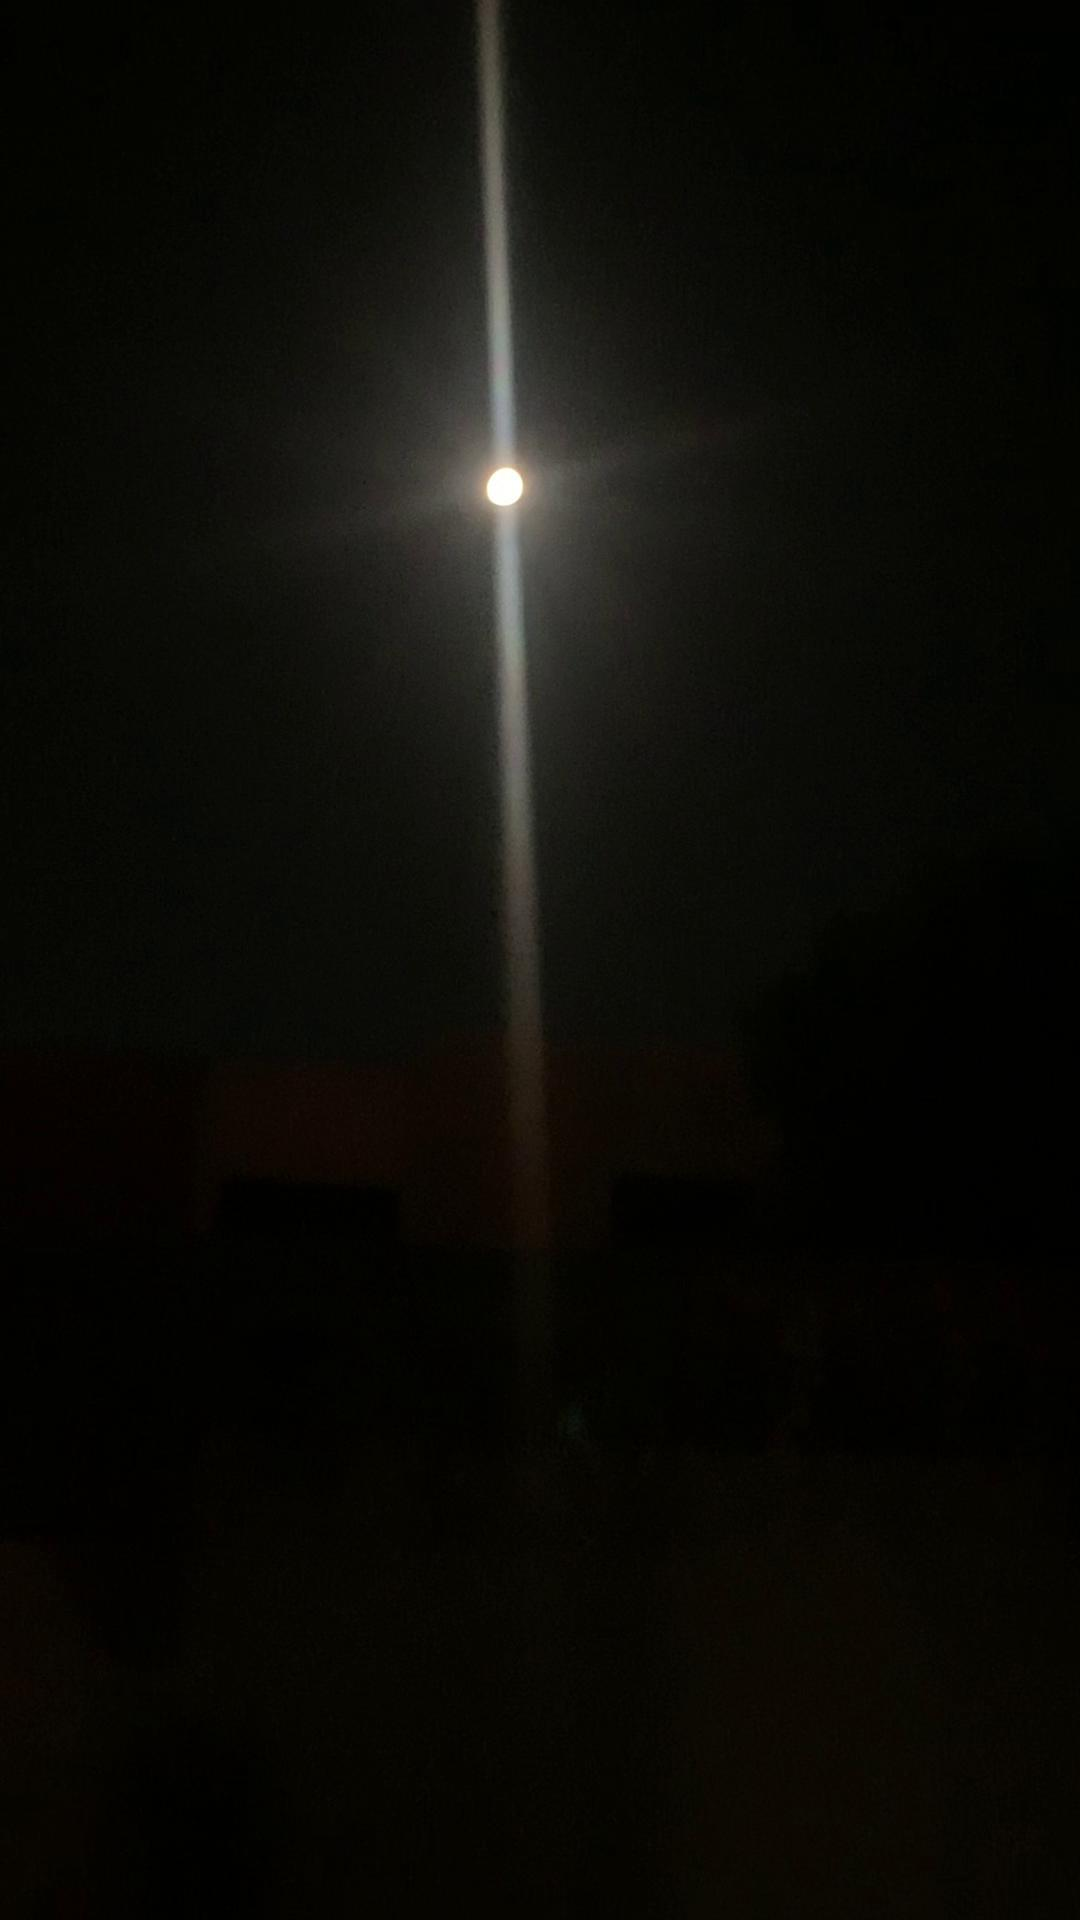moon: (448, 427, 556, 526)
